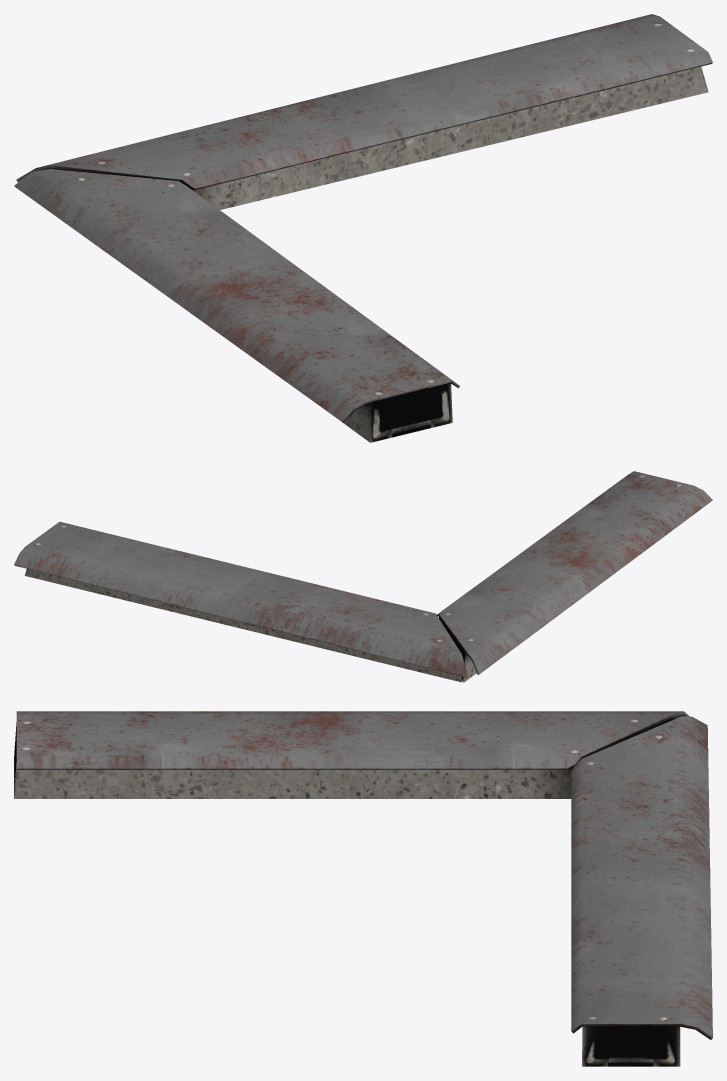
The model's file is SM_RoofBordersTopCorner01.FBX.
3 renders of one model, top to bottom at view 1: azimuth 30°, elevation 25°; view 2: azimuth 150°, elevation 25°; view 3: azimuth 270°, elevation 25°, orthographic. The views are drawn at different scales.
Visible parts, largest first — view 1: SM_RoofBordersTopCorner01_LOD0; view 2: SM_RoofBordersTopCorner01_LOD0; view 3: SM_RoofBordersTopCorner01_LOD0.
Part boxes in pixels (bbox=[...]): SM_RoofBordersTopCorner01_LOD0: bbox=[14, 14, 712, 442]; SM_RoofBordersTopCorner01_LOD0: bbox=[14, 471, 712, 682]; SM_RoofBordersTopCorner01_LOD0: bbox=[14, 711, 712, 1066].
Size of the model in its own units: 350 by 320 by 21.39.
